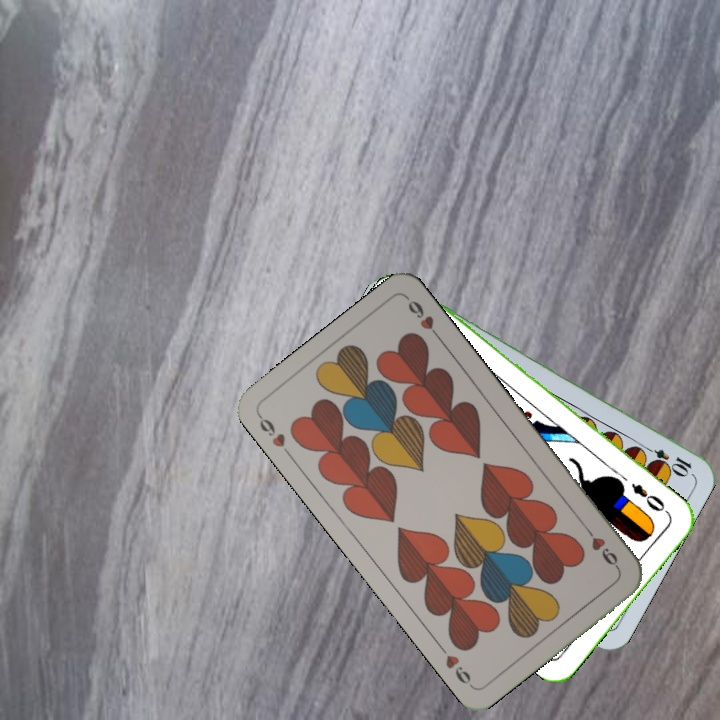E10: (638, 441, 694, 477)
EO: (627, 479, 672, 517)
H9: (581, 523, 623, 573), (254, 410, 295, 461)
